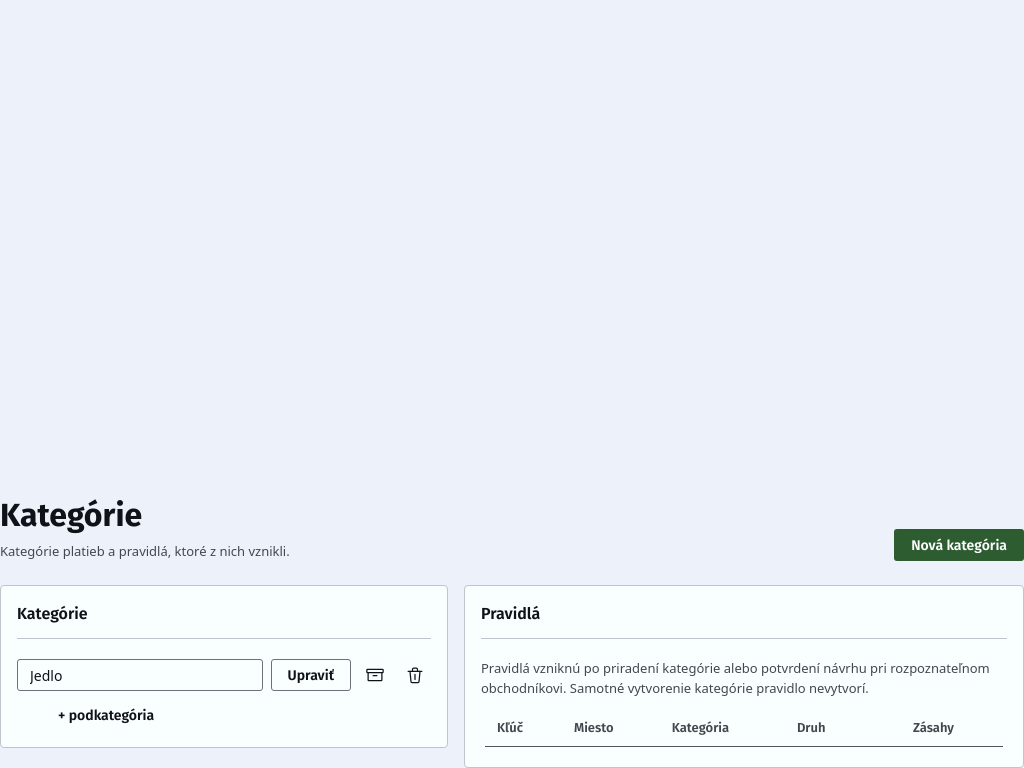
it: Categories delete control (point 4) › writes the rule count 1 of the delete preview in the right form
The image size is (1024, 768).
(page scrolled)
Click the button named "Zmazať kategóriu Jedlo".
click(415, 675)  # box [399,659,431,691]
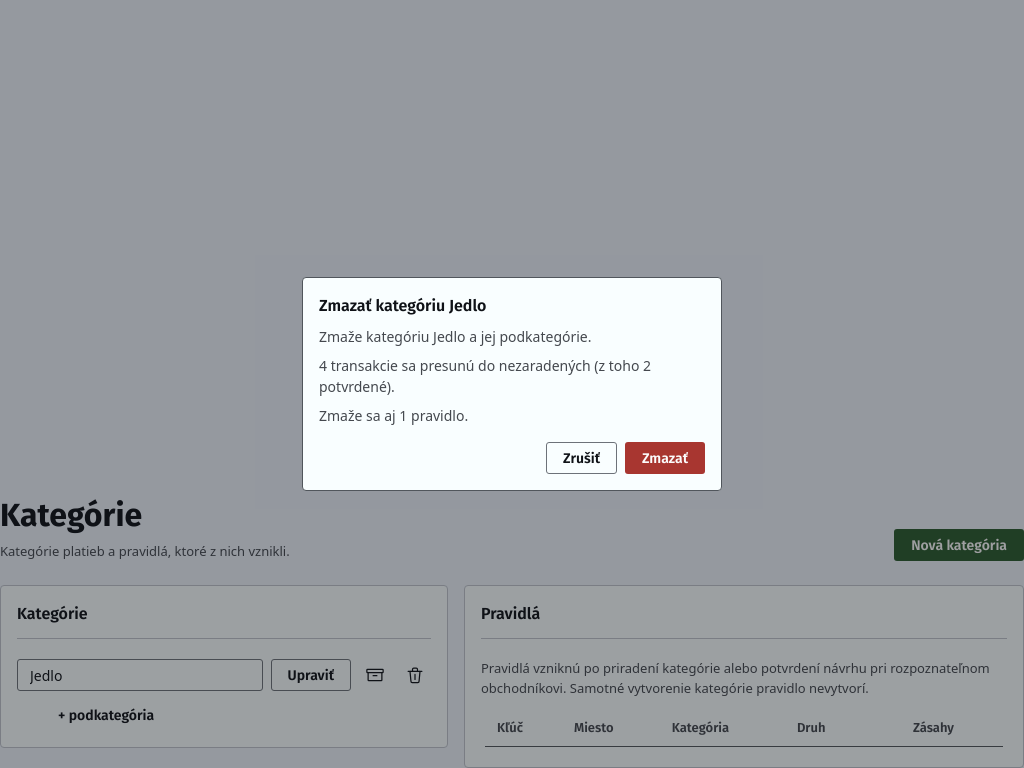
Expected: the text "Zmaže sa aj 1 pravidlo." is shown, [319,406,468,425]
